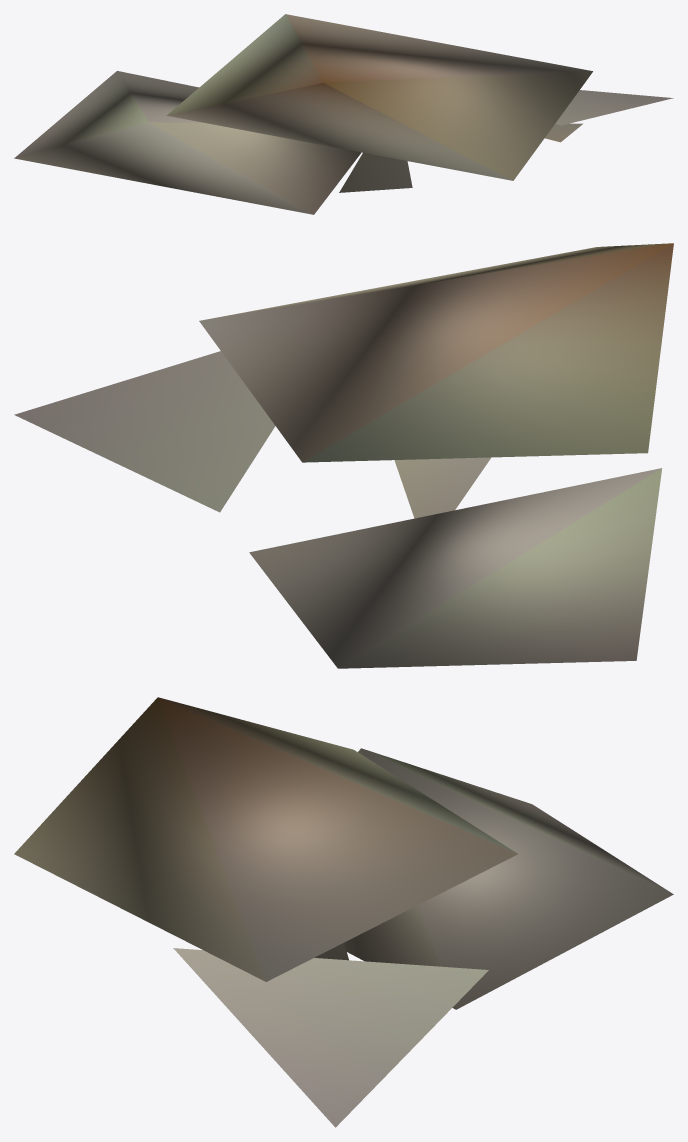
File: mushroom_bk_foret_broceliande_0001.glb
3 views of the same model, one above another, from view 1: azimuth 30°, elevation 25°; view 2: azimuth 150°, elevation 25°; view 3: azimuth 270°, elevation 25° (orthographic). The views are drawn at different scales.
Parts seen in each view (by area): view 1: mushroom_bk_001; view 2: mushroom_bk_001; view 3: mushroom_bk_001.
Boxes of the visible parts, left/top/right/bottom form: mushroom_bk_001: left=14, top=14, right=673, bottom=214; mushroom_bk_001: left=14, top=243, right=673, bottom=668; mushroom_bk_001: left=14, top=697, right=673, bottom=1127.
Size of the model in its own units: 1.2 by 0.4 by 1.08.
